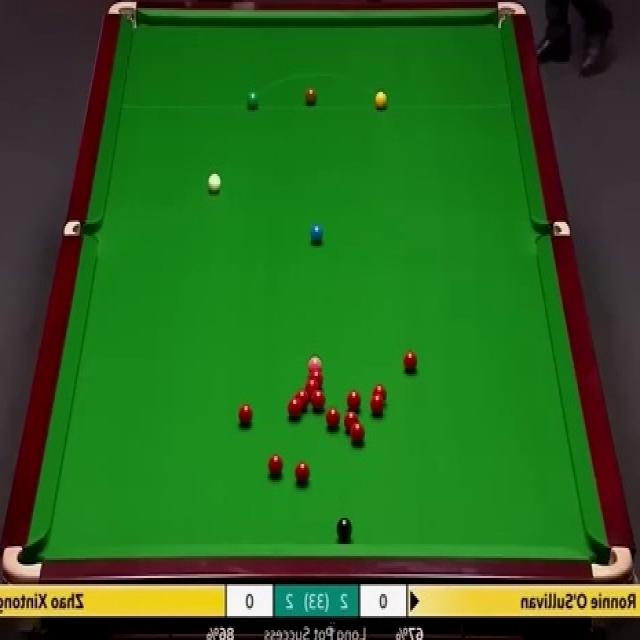black-ball: (336, 514, 354, 538)
blue-ball: (310, 225, 324, 242)
brown-ball: (305, 88, 316, 106)
green-ball: (245, 88, 260, 110)
pink-ball: (306, 356, 322, 370)
red-ball: (238, 399, 254, 426), (403, 349, 419, 374), (310, 389, 326, 412), (324, 405, 340, 428), (348, 419, 363, 442), (287, 397, 303, 418), (296, 457, 310, 481), (270, 453, 284, 474), (343, 413, 358, 432), (346, 389, 361, 408), (296, 386, 310, 406), (370, 393, 382, 416), (306, 378, 320, 396), (375, 383, 387, 403), (309, 369, 325, 384)
white-ball: (208, 172, 221, 193)
yellow-ball: (375, 90, 387, 110)
